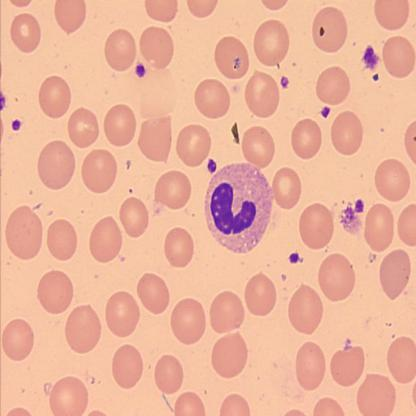Segmented neutrophil: (203, 161, 274, 257)
